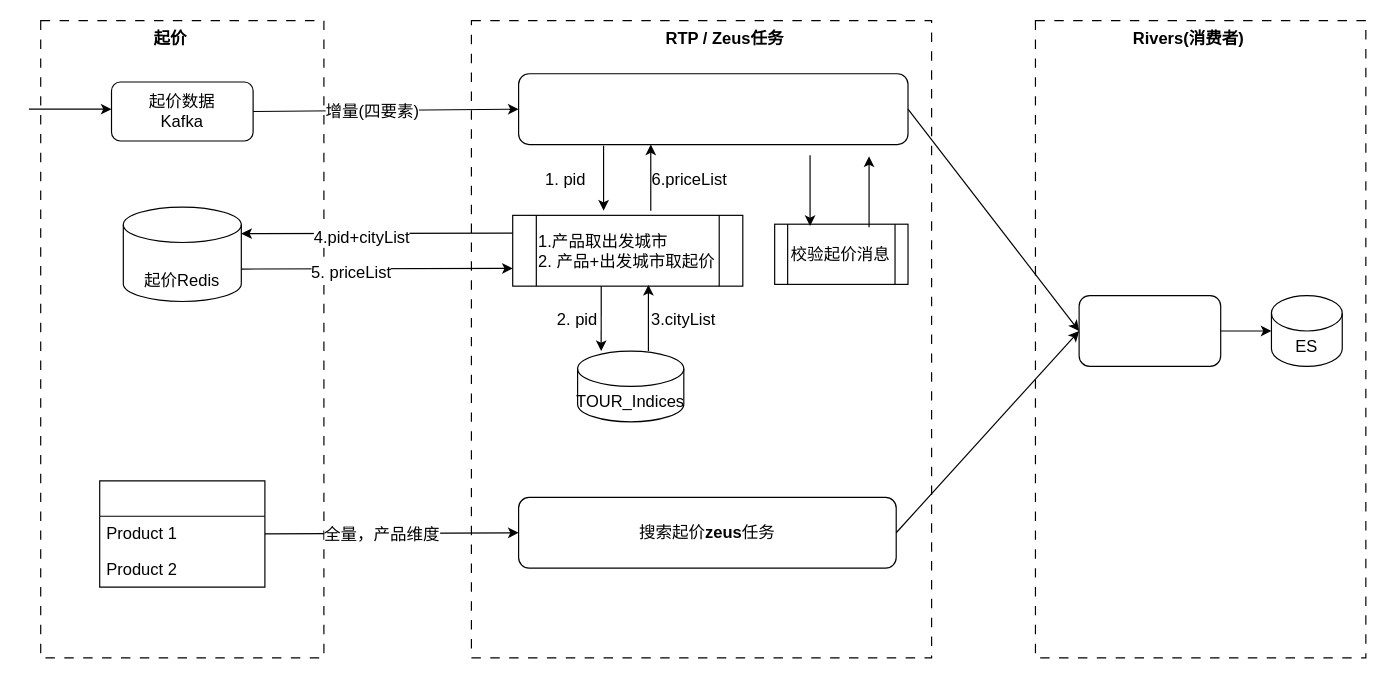
Image size: 1386x679. Some labels were removed from this diagram. The shapes that lost their labels are listed below. From the top down, each one's box as (x1, y1, x2, y2) in pixels, then its label:
(517, 73, 908, 145): 搜索 rtp 平台任务 (20分钟聚合到产品)
(1078, 294, 1221, 366): 消费者
(99, 480, 265, 587): 起价Hive表
